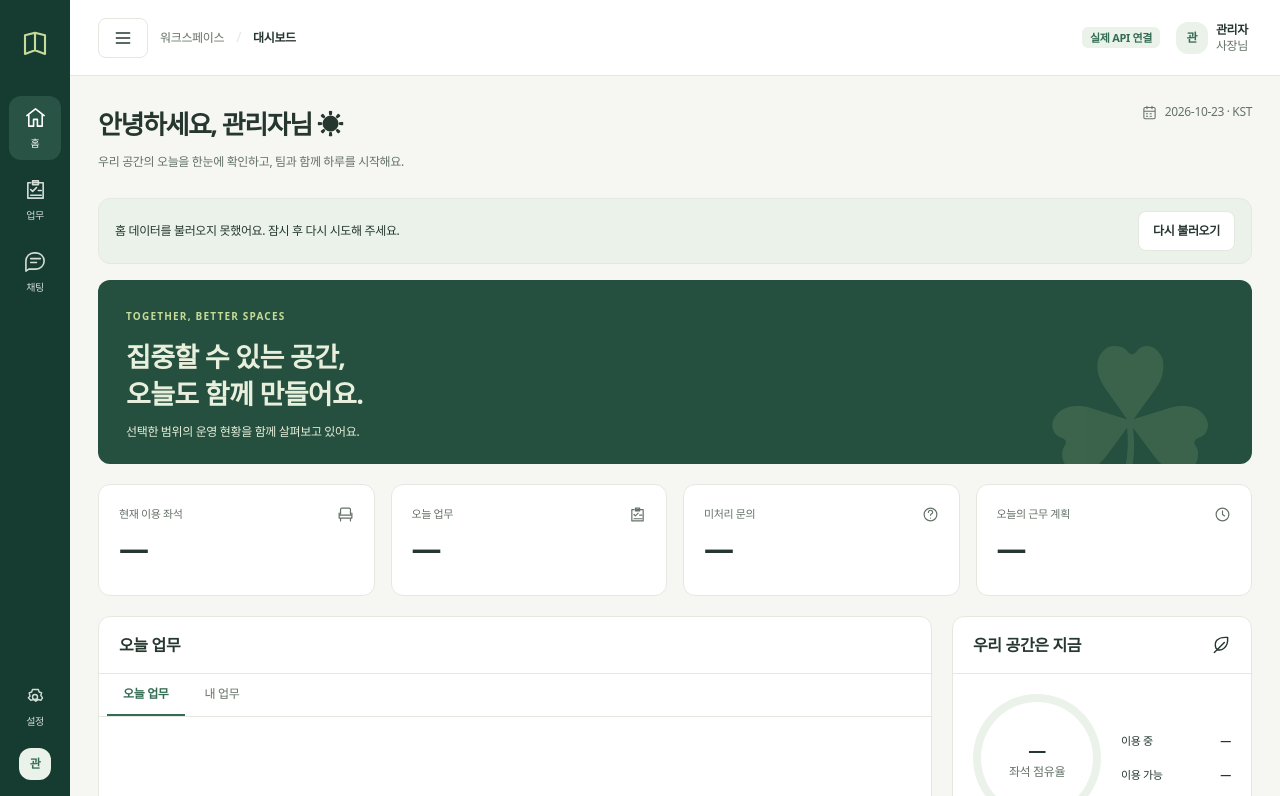
uses known session branches when lookup arrays are absent
Click the button named "메뉴 열기". click: (123, 38)
box: [98,18,148,58]
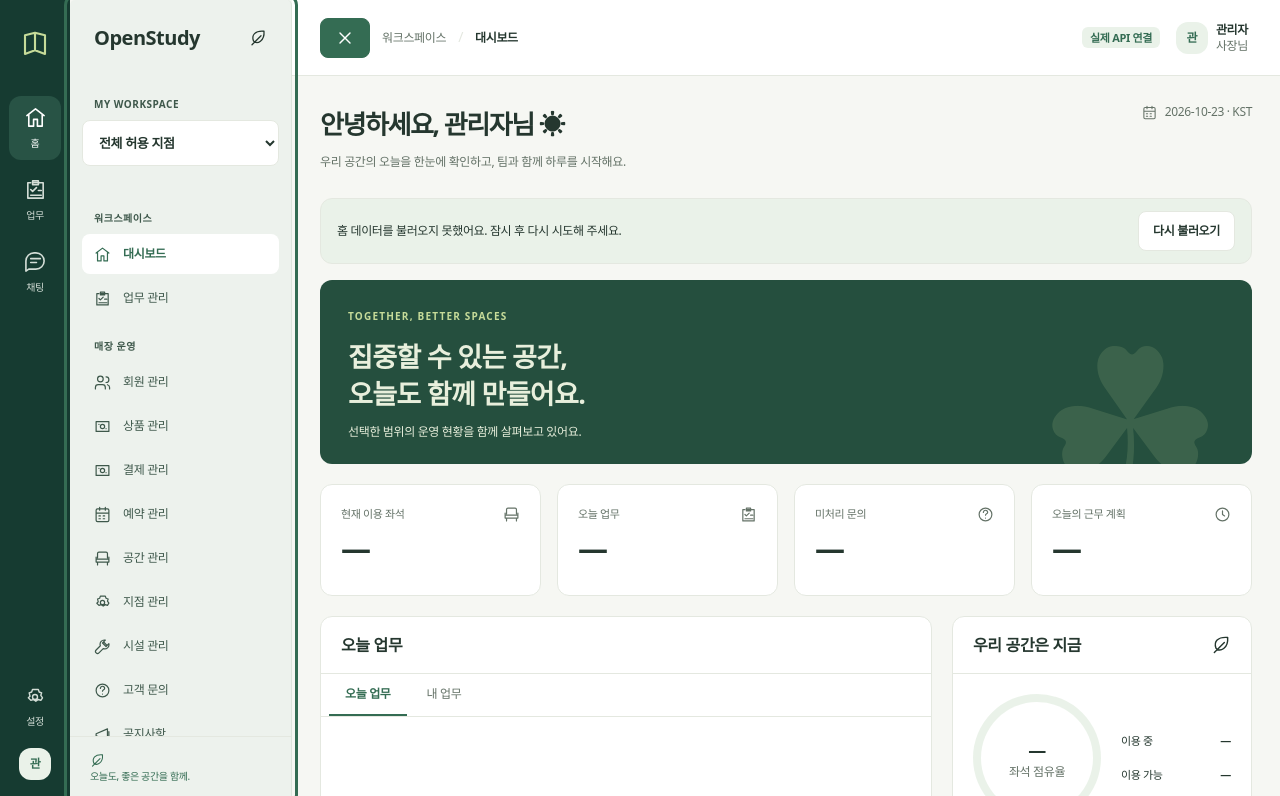
Expected: the dropdown named "현재 지점" shows "전체 허용 지점", [82,120,279,166]
Expected: the dropdown named "현재 지점" is enabled, [82,120,279,166]
